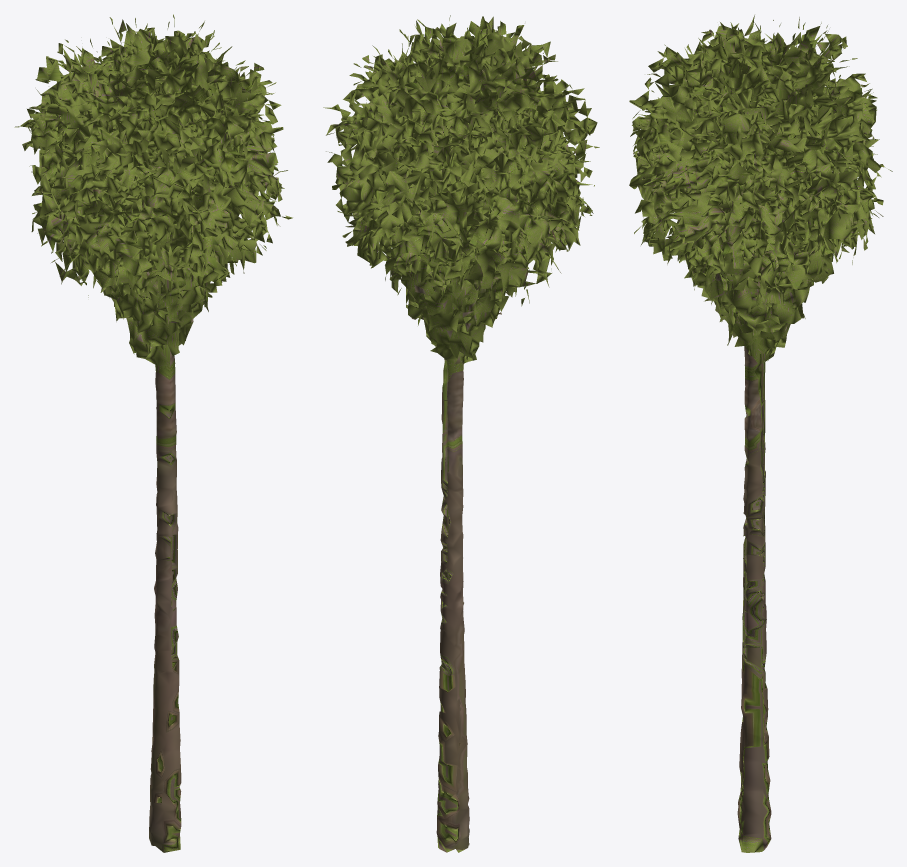
Rendered from lagoon_a_lod1.glb.
3 renders of one model, left to right at view 1: azimuth 30°, elevation 25°; view 2: azimuth 150°, elevation 25°; view 3: azimuth 270°, elevation 25°, orthographic.
Bounding box in the file's own units: 0.5879 × 1.99 × 0.5845.
Materials: 1 (1 with a texture image).
